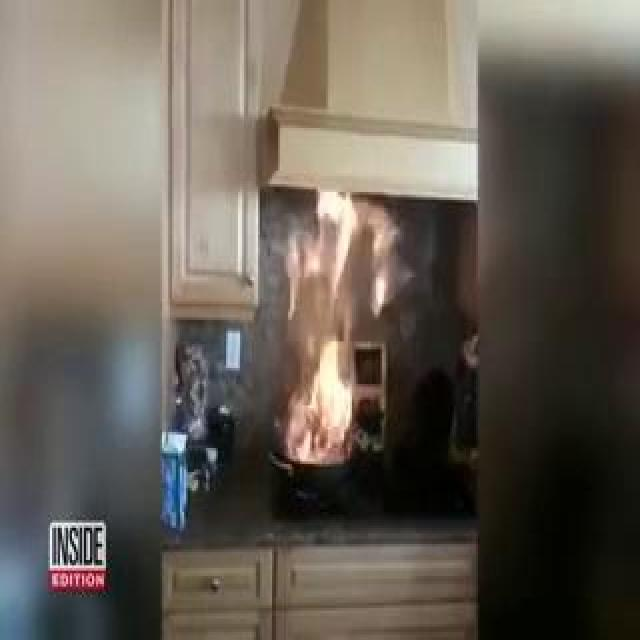Fire: (266, 248, 360, 469)
